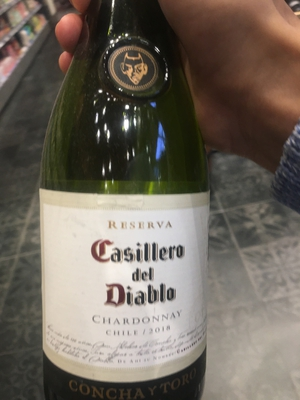casillero del diablo chardonnay: (34, 23, 227, 400)
